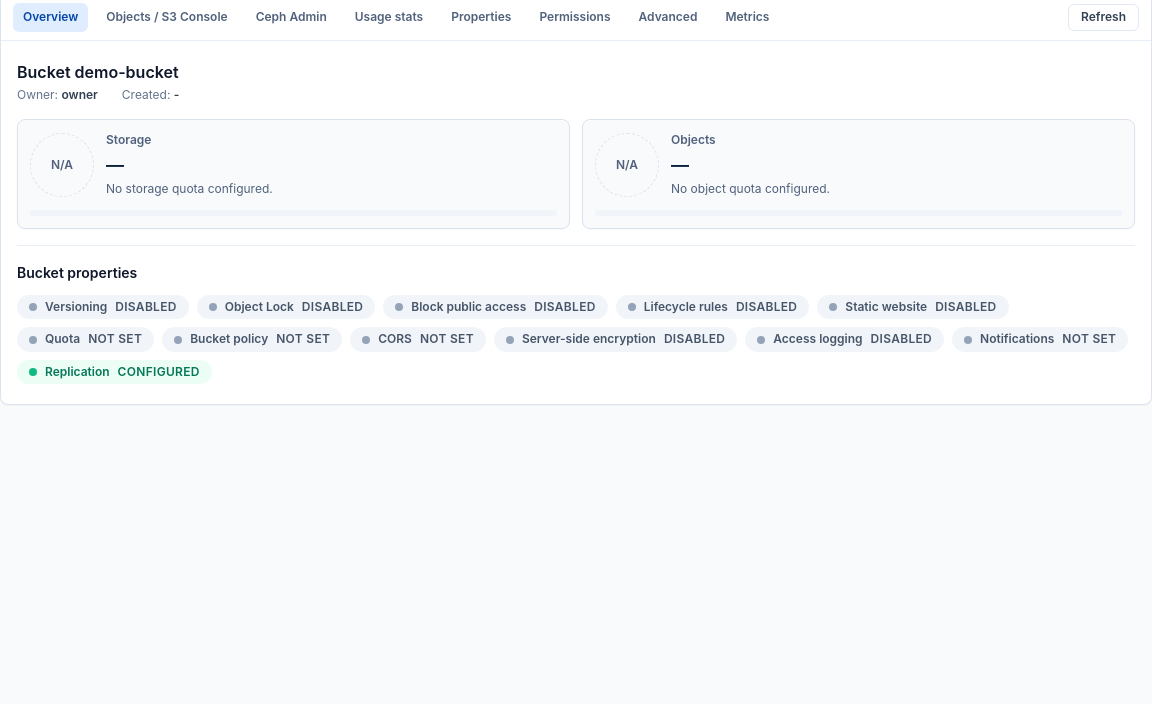
BucketDetailPage replication state › keeps the replication rule ID input mounted and focused while editing
Click the button "Advanced" at point(668, 17), box top-left (628, 3), bottom-right (707, 32)
(page scrolled)
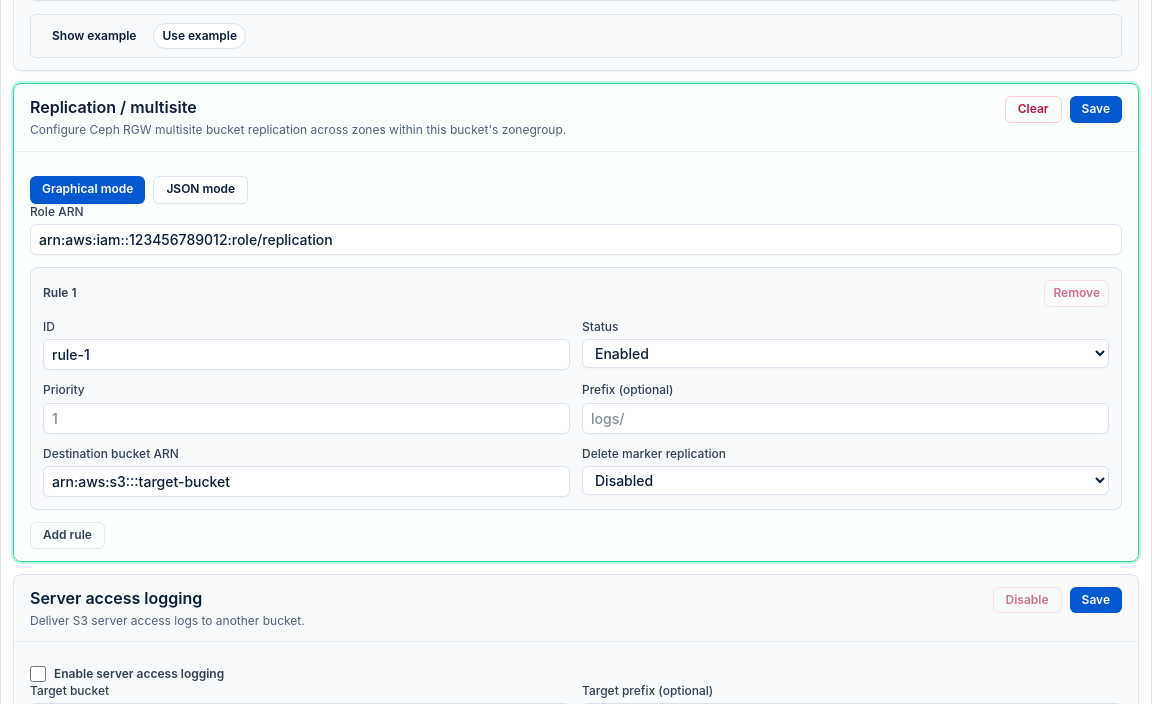
Now the field labelled "ID" holds "rule-1"
Type "-updated" into the field labelled "ID" at point(306, 354), box top-left (43, 339), bottom-right (570, 370)
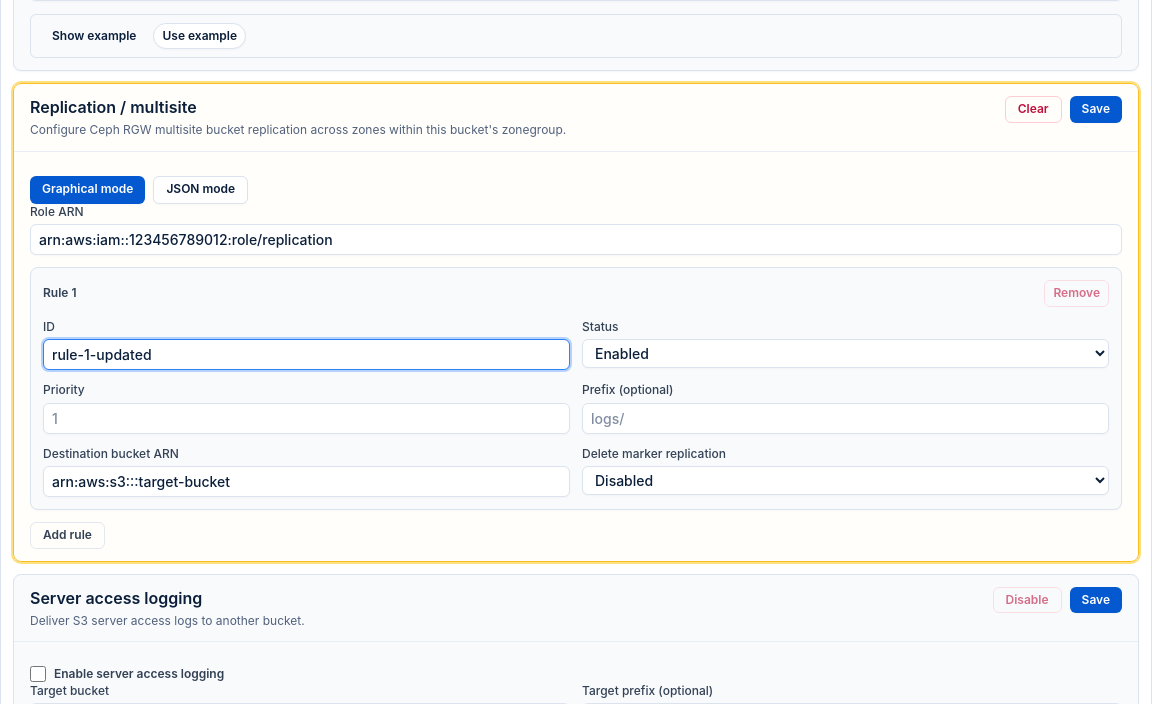
Now the field labelled "ID" holds "rule-1-updated", box top-left (43, 339), bottom-right (570, 370)
